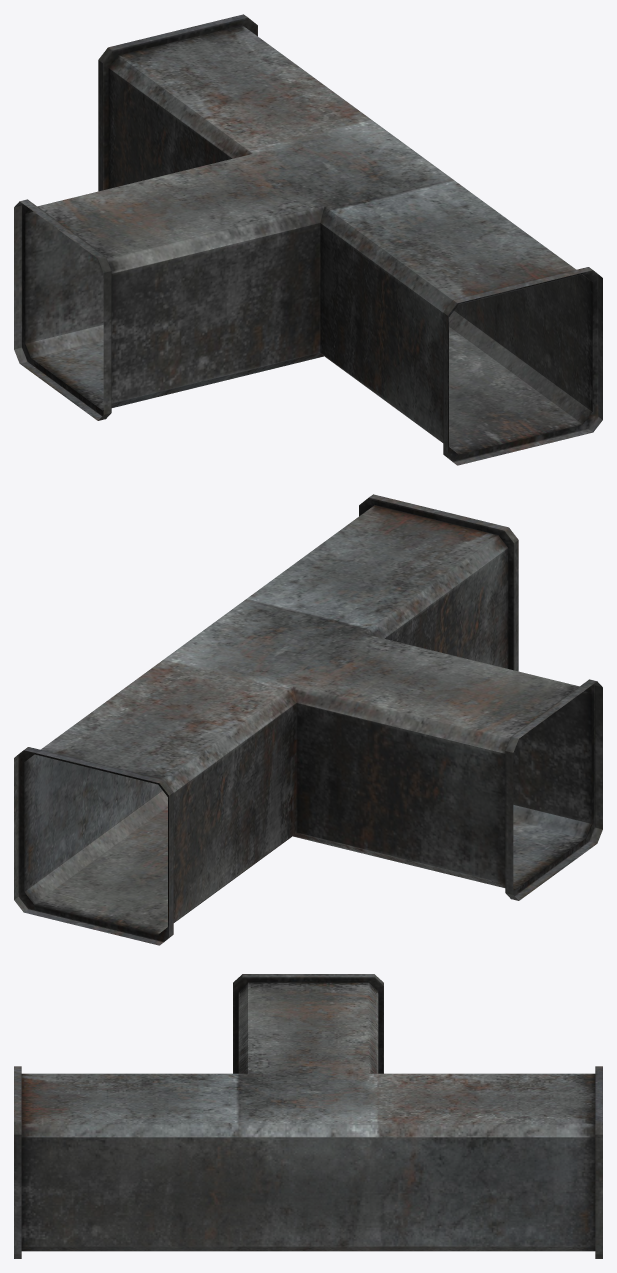
Rendered from VentT_L.FBX.
The picture shows the model from 3 angles, top to bottom: view 1: azimuth 30°, elevation 25°; view 2: azimuth 150°, elevation 25°; view 3: azimuth 270°, elevation 25°; orthographic projection. The views are drawn at different scales.
Visible parts, largest first — view 1: VentT_L; view 2: VentT_L; view 3: VentT_L.
Part boxes in pixels (x1,y1,x2,y2): VentT_L: [14, 14, 602, 465]; VentT_L: [14, 494, 602, 945]; VentT_L: [14, 974, 602, 1258].
Size of the model in its own units: 190 by 79.96 by 312.
1 material, 1 textured.
